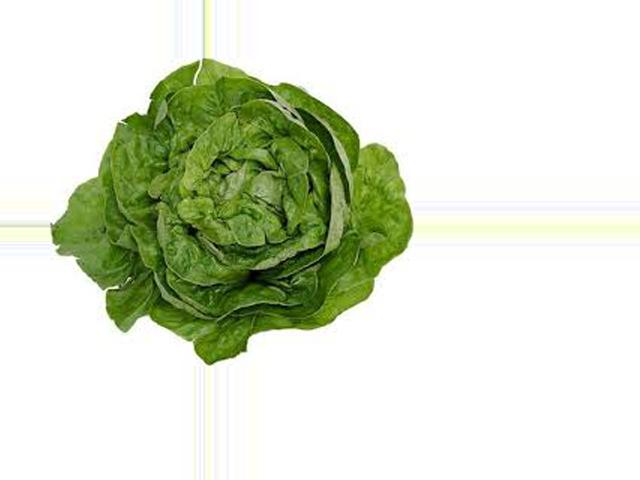lettuce: (60, 61, 414, 363)
